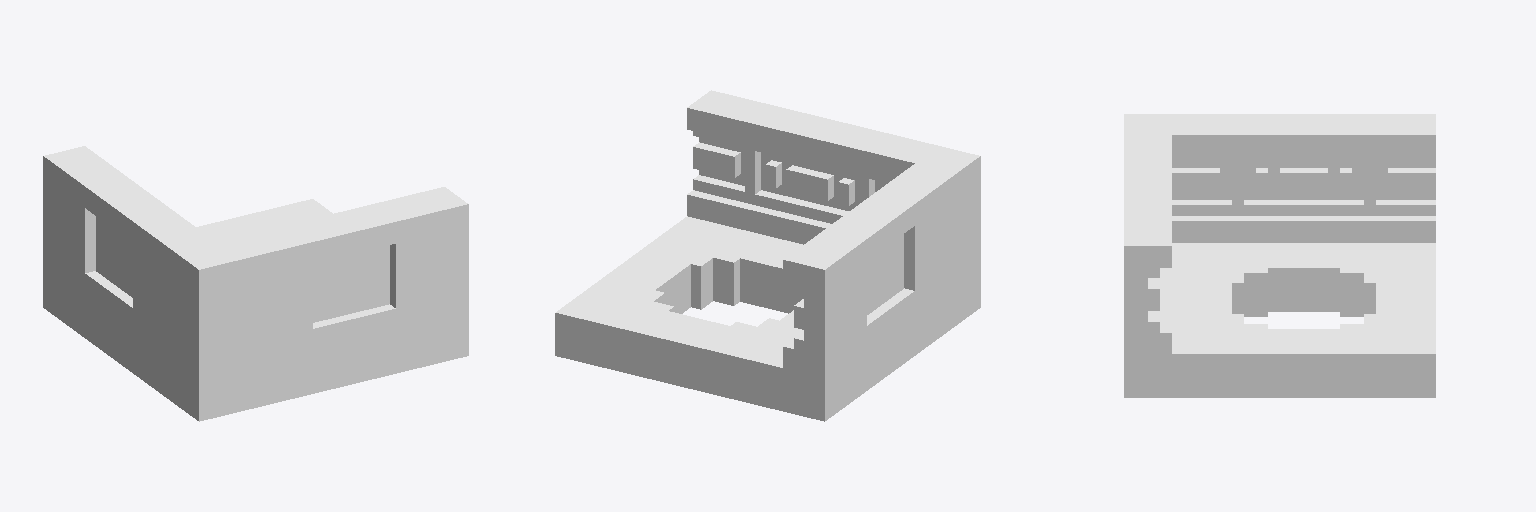
The model's file is Room_Special_C.obj.
The picture shows the model from 3 angles: view 1: azimuth 30°, elevation 25°; view 2: azimuth 150°, elevation 25°; view 3: azimuth 270°, elevation 25°; orthographic projection.
Visible parts, largest first — view 1: Room_Special_C; view 2: Room_Special_C; view 3: Room_Special_C.
Part boxes in pixels (x1,y1,x2,y2): Room_Special_C: (43, 146, 468, 421); Room_Special_C: (555, 90, 980, 421); Room_Special_C: (1124, 114, 1435, 397).
Bounding box in the file's own units: 26 × 14 × 26.